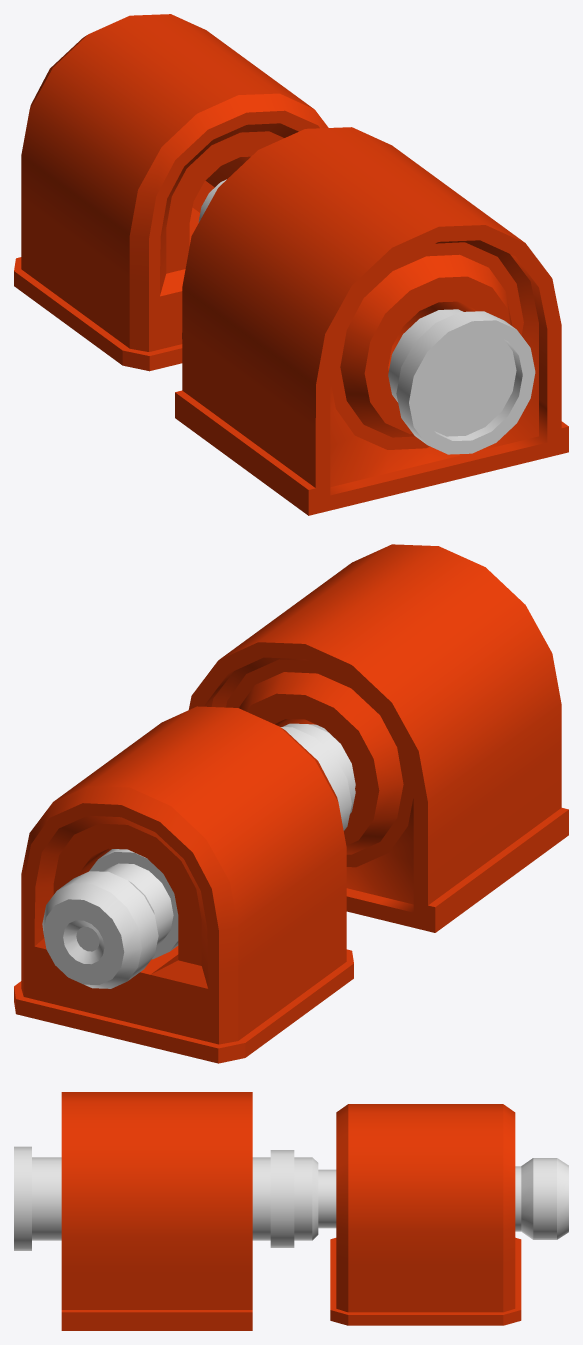
File: Generator_01_snaps002 (6).fbx
3 views of the same model, one above another, from view 1: azimuth 30°, elevation 25°; view 2: azimuth 150°, elevation 25°; view 3: azimuth 270°, elevation 25° (orthographic). The views are drawn at different scales.
Visible parts, largest first — view 1: Generator_01_engine_snaps002.004; view 2: Generator_01_engine_snaps002.004; view 3: Generator_01_engine_snaps002.004.
Boxes of the visible parts, bbox=[...] form: Generator_01_engine_snaps002.004: bbox=[14, 14, 568, 515]; Generator_01_engine_snaps002.004: bbox=[14, 544, 568, 1063]; Generator_01_engine_snaps002.004: bbox=[14, 1092, 568, 1330].
Size of the model in its own units: 169 by 159 by 436.
